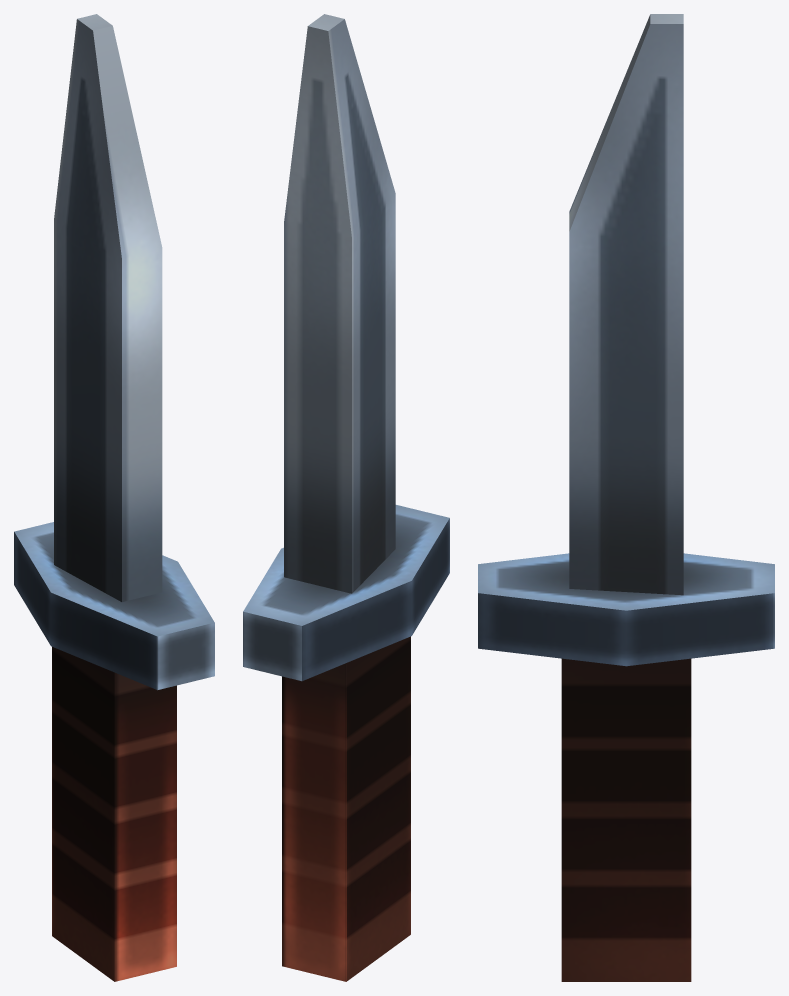
The model's file is weapon_knife.FBX.
3 views of the same model, side by side, from view 1: azimuth 30°, elevation 25°; view 2: azimuth 150°, elevation 25°; view 3: azimuth 270°, elevation 25° (orthographic). The views are drawn at different scales.
Visible parts, largest first — view 1: weapon_knife; view 2: weapon_knife; view 3: weapon_knife.
Part boxes in pixels (box(x1,y1,x2,y2)): weapon_knife: box(14, 14, 214, 981); weapon_knife: box(243, 14, 449, 981); weapon_knife: box(478, 14, 774, 981).
Size of the model in its own units: 8.41 by 57.9 by 16.45.
